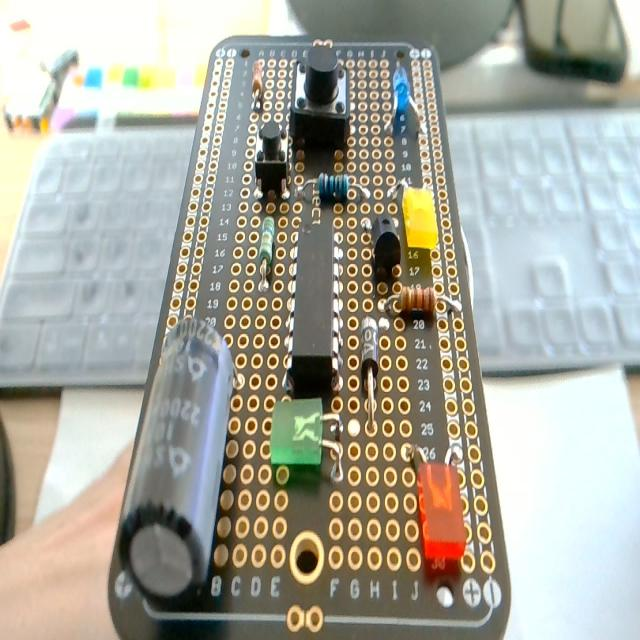Electrolytic capacitor: (118, 316, 238, 610)
IC: (282, 221, 344, 407)
diode: (360, 314, 379, 433)
led: (260, 400, 350, 492), (407, 441, 466, 562), (386, 61, 422, 135), (402, 186, 438, 254)
resistor: (382, 286, 455, 321), (256, 216, 274, 296), (318, 172, 349, 200), (251, 58, 264, 105)
switch: (290, 48, 350, 149), (254, 121, 286, 198)
transistor: (370, 209, 400, 285)
